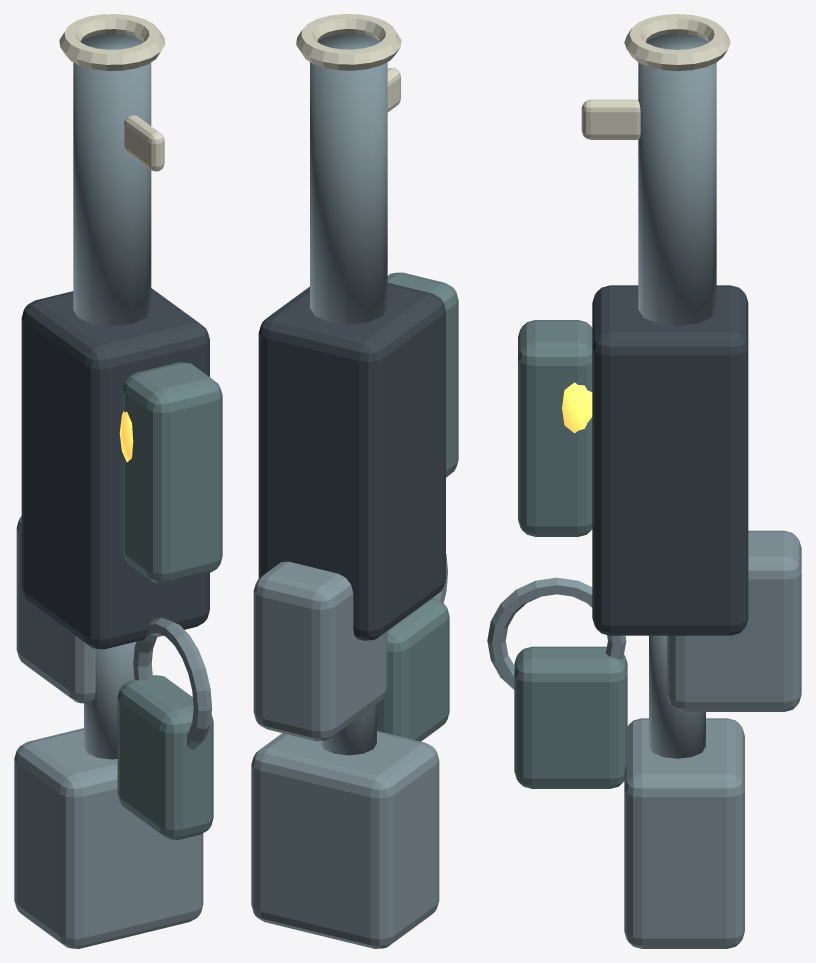
File: YK_01_SoulRifle_Weapon_E00.glb
3 renders of one model, left to right at view 1: azimuth 30°, elevation 25°; view 2: azimuth 150°, elevation 25°; view 3: azimuth 270°, elevation 25°, orthographic.
Visible parts, largest first — view 1: SM_YK_01_SoulRifle_Weapon_P00; view 2: SM_YK_01_SoulRifle_Weapon_P00; view 3: SM_YK_01_SoulRifle_Weapon_P00.
Boxes of the visible parts, <box> form: SM_YK_01_SoulRifle_Weapon_P00: <box>14,14,222,948</box>; SM_YK_01_SoulRifle_Weapon_P00: <box>251,14,458,948</box>; SM_YK_01_SoulRifle_Weapon_P00: <box>487,14,801,948</box>.
Bounding box in the file's own units: 0.23 × 1.38 × 0.443.
